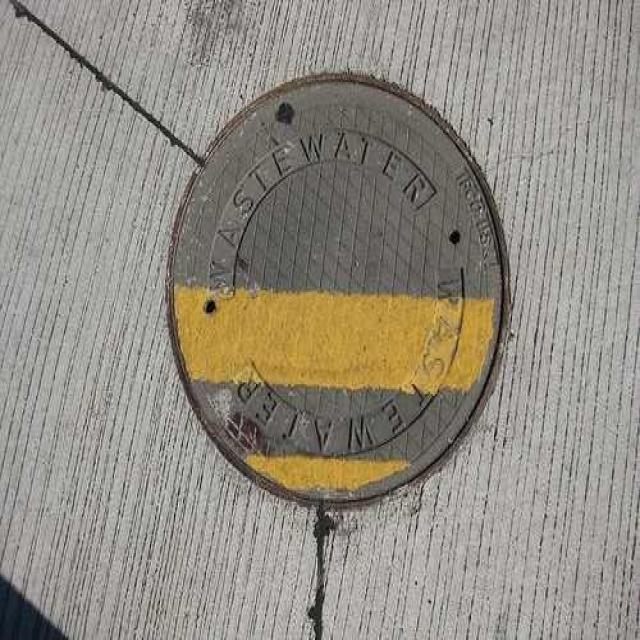manhole: (167, 75, 507, 504)
